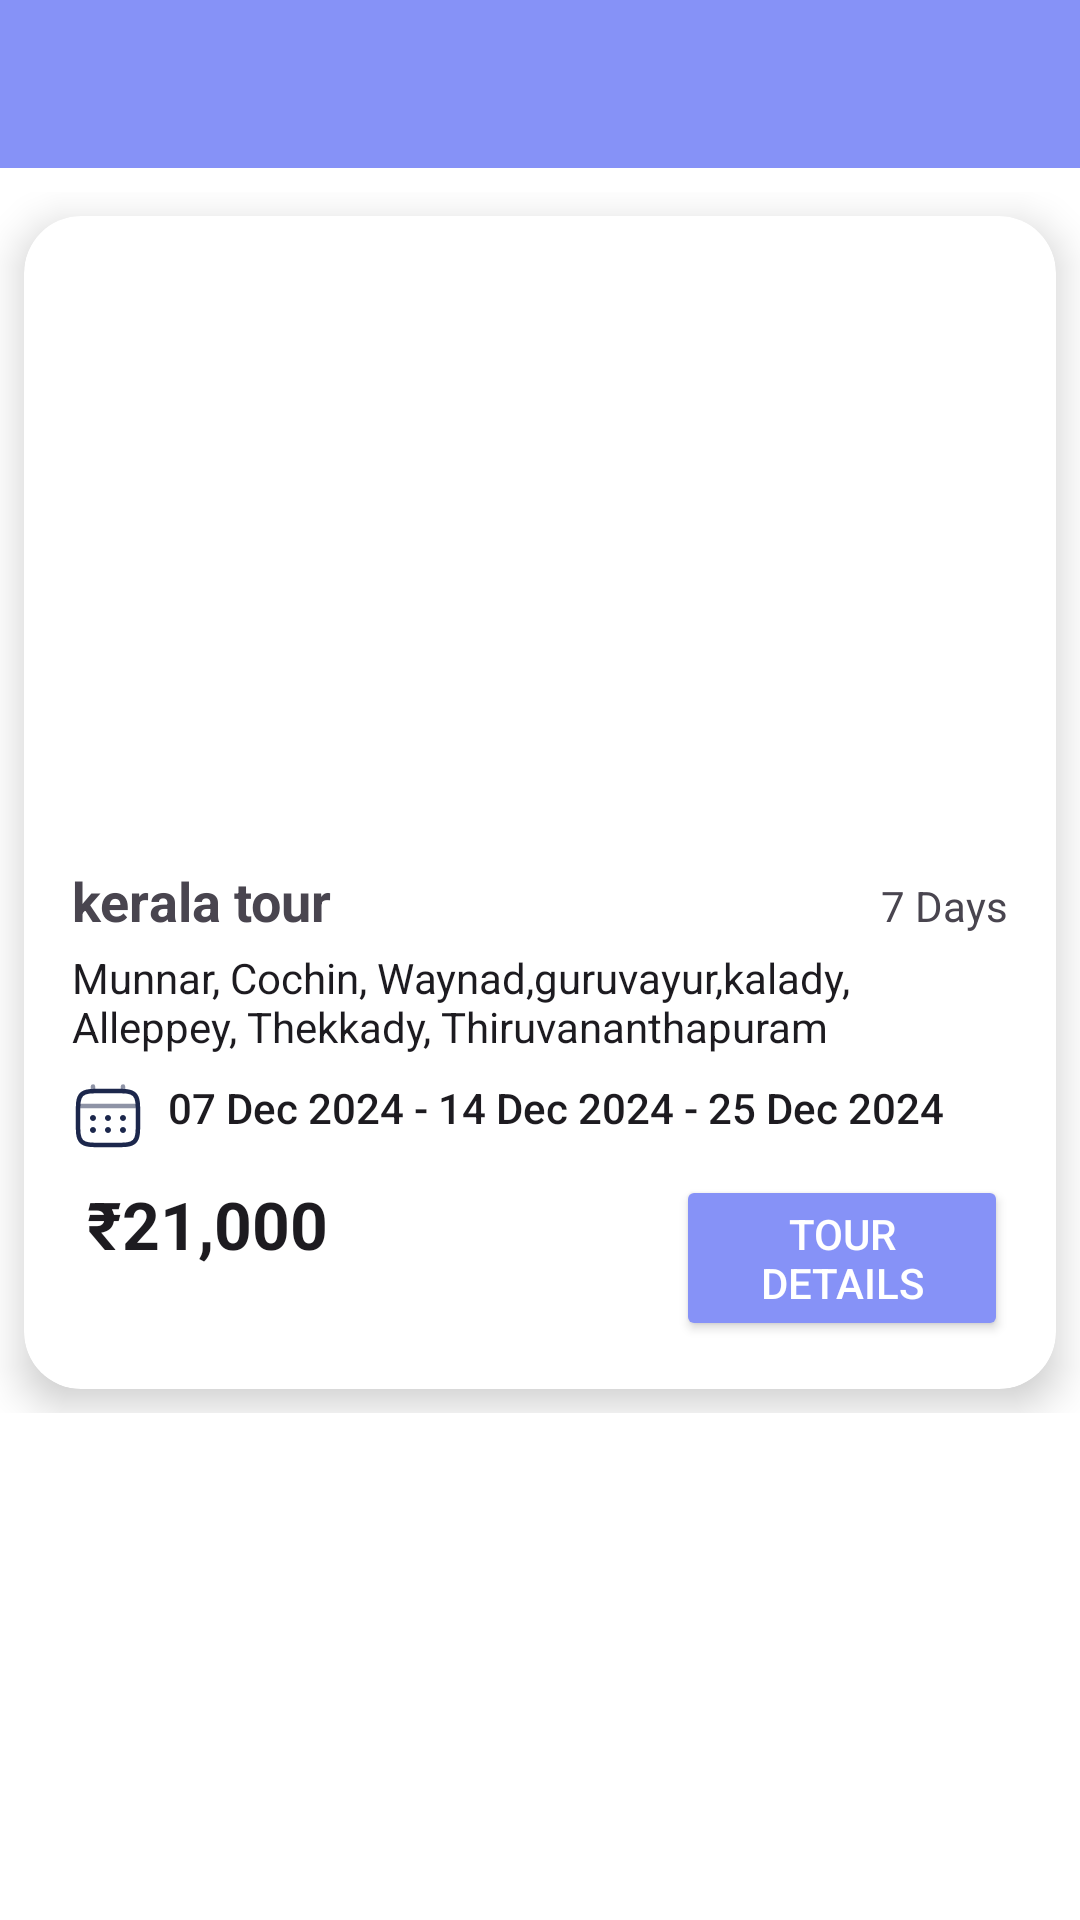

Named icons in this screenshot (1080w x 1920h) and their centers, point (x, y):
Calendar Icon: point (108, 1116)
